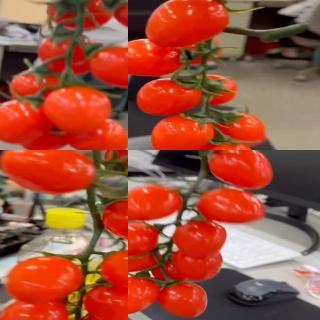tomato: (142, 0, 230, 51), (0, 150, 98, 194), (6, 256, 86, 305), (41, 85, 112, 134), (206, 150, 275, 191), (198, 186, 268, 223), (36, 34, 104, 72), (136, 79, 202, 118), (0, 98, 52, 144), (152, 113, 216, 150), (9, 66, 66, 106), (128, 36, 185, 76), (128, 183, 184, 222), (175, 219, 228, 259), (154, 280, 208, 319), (208, 111, 268, 146), (183, 72, 240, 108), (64, 118, 128, 150), (46, 0, 114, 29), (172, 248, 225, 282), (89, 45, 128, 90), (19, 119, 73, 150), (85, 283, 128, 320), (0, 298, 69, 320), (100, 199, 128, 247), (128, 276, 161, 316), (128, 221, 161, 258), (102, 247, 128, 292), (128, 246, 162, 275), (98, 150, 128, 178), (81, 310, 128, 320)
